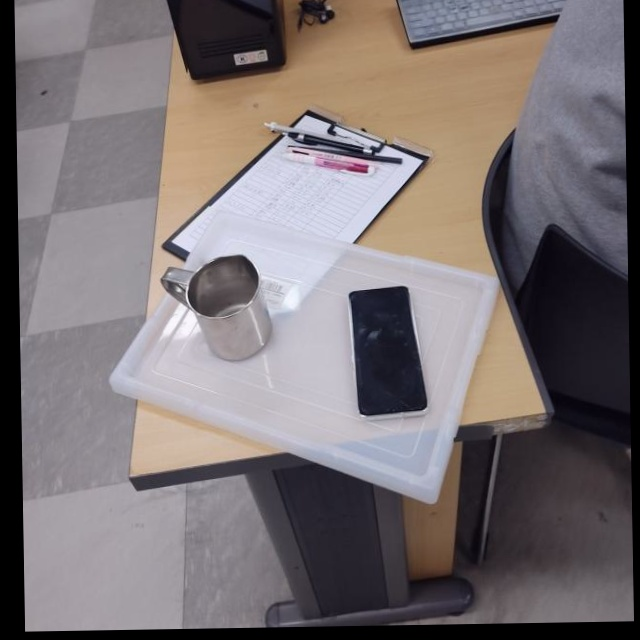cup: (158, 251, 276, 363)
phone: (347, 285, 431, 423)
